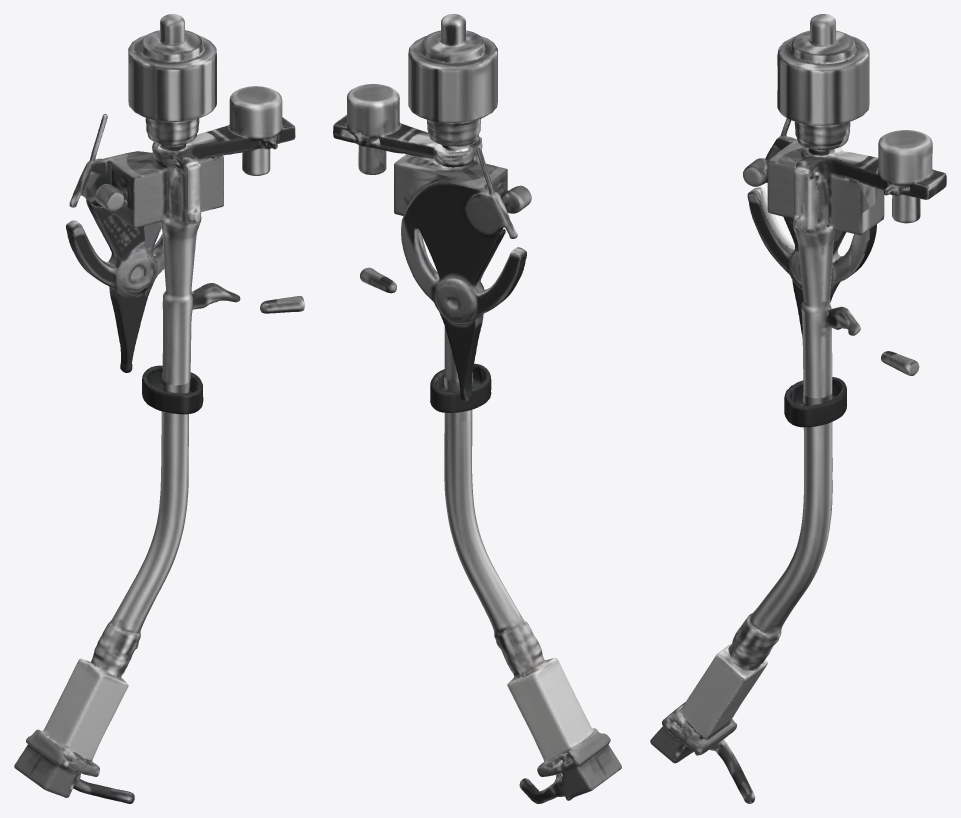
File: tonearm-new.glb
3 views of the same model, side by side, from view 1: azimuth 30°, elevation 25°; view 2: azimuth 150°, elevation 25°; view 3: azimuth 330°, elevation 25° (orthographic). The views are drawn at different scales.
Parts seen in each view (by area): view 1: geometry_0; view 2: geometry_0; view 3: geometry_0.
Part boxes in pixels (box(x1,y1,x2,y2)): geometry_0: box(14, 14, 304, 803); geometry_0: box(333, 14, 621, 803); geometry_0: box(650, 14, 946, 803).
Bounding box in the file's own units: 0.45 × 1.26 × 0.1463.
1 material, 1 textured.
